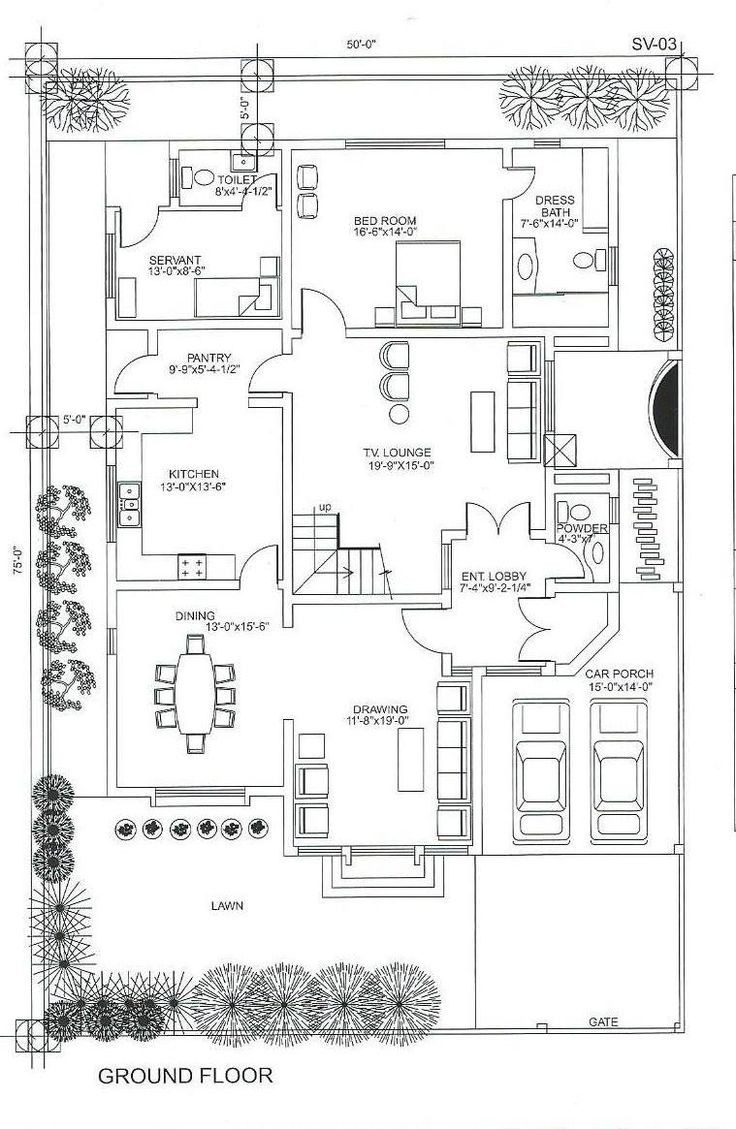door: (292, 265, 356, 340), (101, 190, 163, 253), (515, 590, 563, 669), (244, 348, 306, 400), (459, 500, 539, 538), (111, 348, 156, 400), (399, 610, 449, 655), (496, 164, 552, 198), (239, 171, 278, 214), (244, 546, 278, 586)
room: (271, 327, 566, 609), (270, 590, 492, 855), (83, 345, 285, 605), (277, 136, 520, 345), (96, 581, 308, 815)
